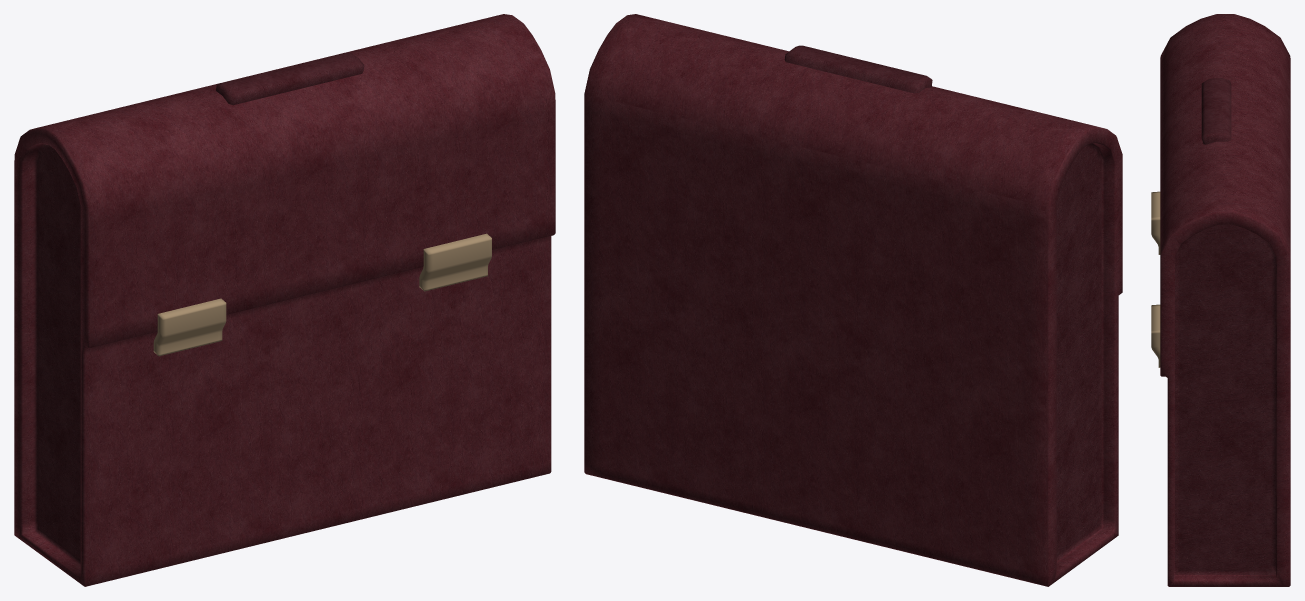
Rendered from office_suitcas.glb.
3 views of the same model, side by side, from view 1: azimuth 30°, elevation 25°; view 2: azimuth 150°, elevation 25°; view 3: azimuth 270°, elevation 25° (orthographic). The views are drawn at different scales.
Visible parts, largest first — view 1: Cube, Cube.001, Cube.002; view 2: Cube, Cube.002; view 3: Cube, Cube.002, Cube.001.
Boxes of the visible parts, bbox=[...] form: Cube: bbox=[14, 14, 555, 586]; Cube.001: bbox=[153, 233, 491, 356]; Cube.002: bbox=[216, 52, 364, 105]; Cube: bbox=[584, 14, 1122, 586]; Cube.002: bbox=[784, 45, 932, 93]; Cube: bbox=[1160, 14, 1290, 586]; Cube.002: bbox=[1201, 78, 1231, 144]; Cube.001: bbox=[1151, 191, 1160, 367].
Size of the model in its own units: 2.3 by 2.06 by 0.6818.
1 material, 1 textured.
